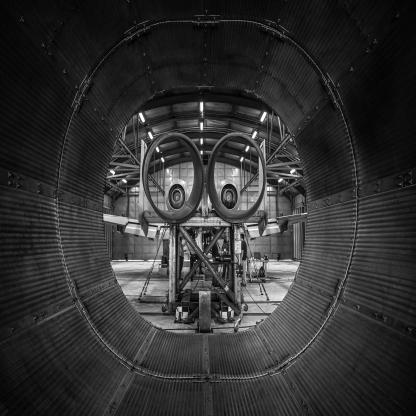A10: (104, 140, 309, 269)
